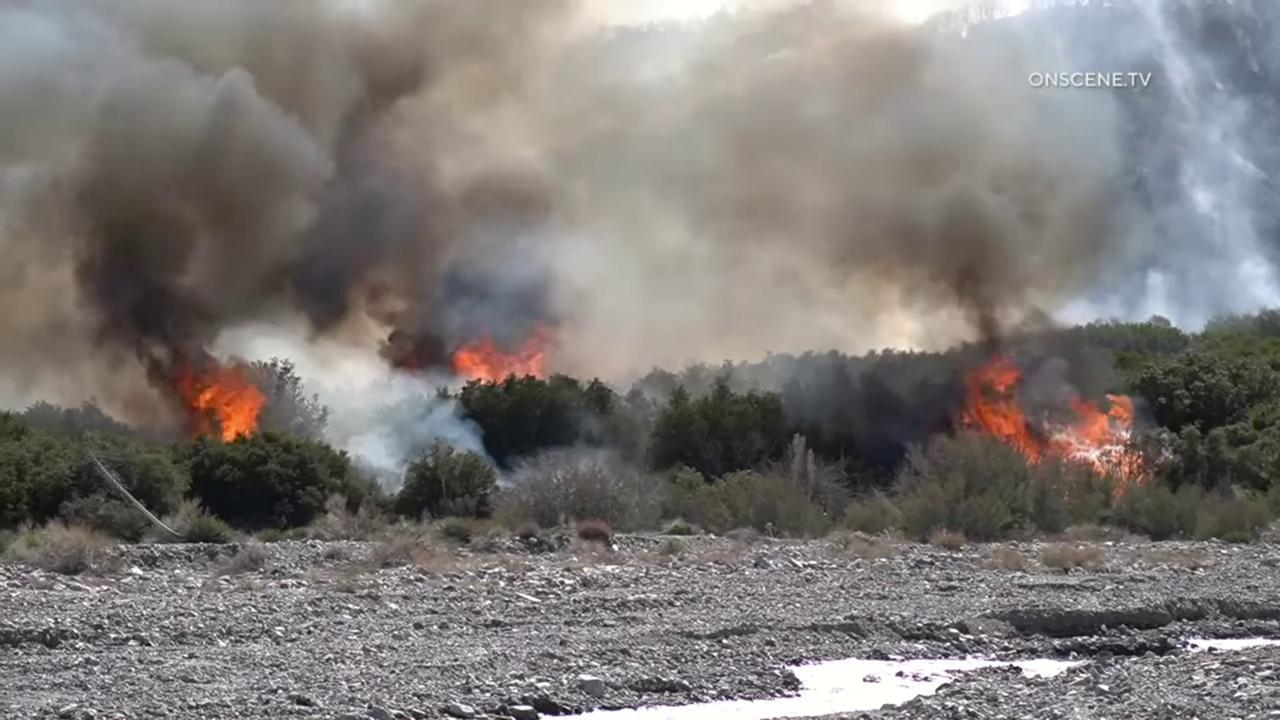fire: (959, 350, 1148, 495), (169, 354, 269, 442), (453, 320, 560, 388)
smoke: (0, 0, 1280, 500)
